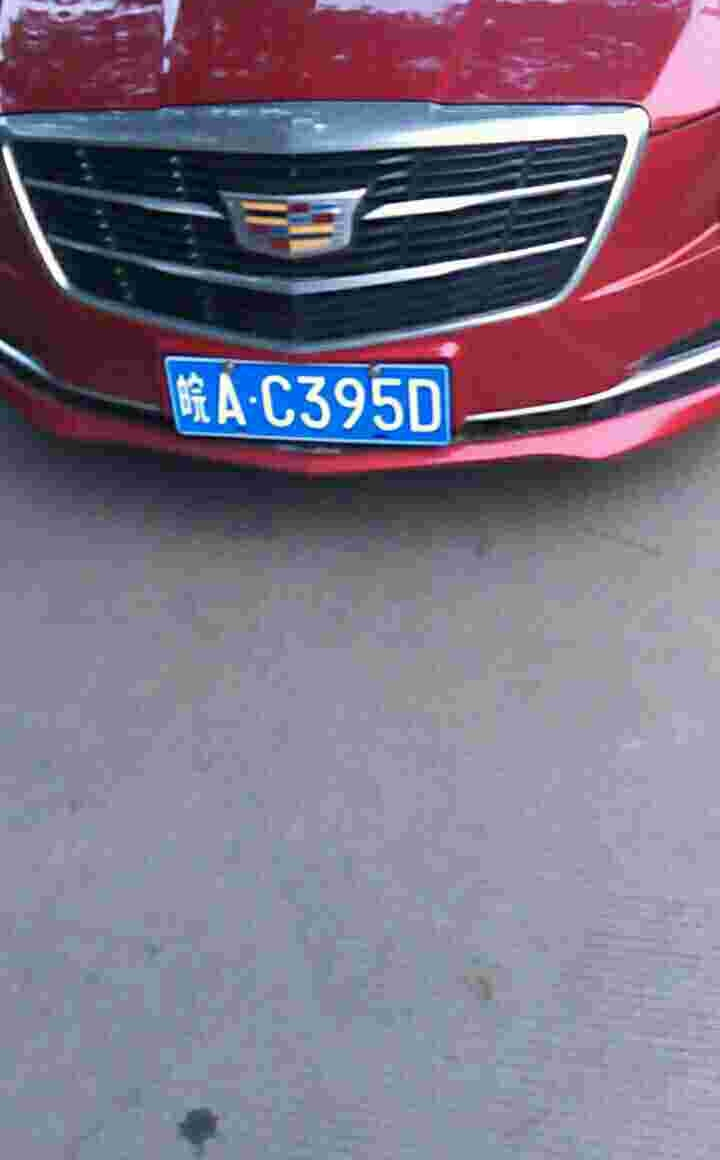car: (146, 357, 463, 449)
